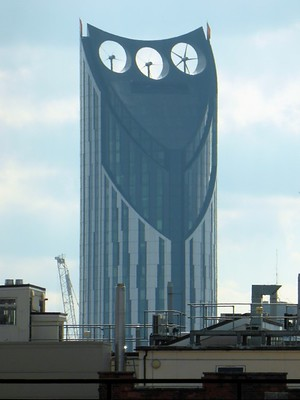low: (75, 17, 220, 348)
